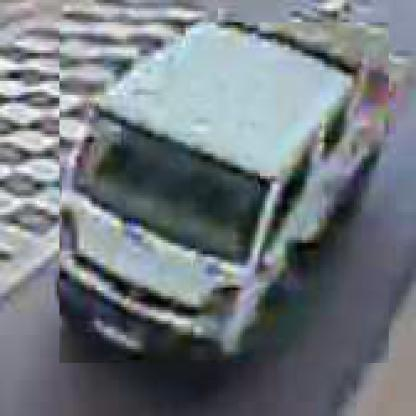truck: (61, 23, 393, 367)
